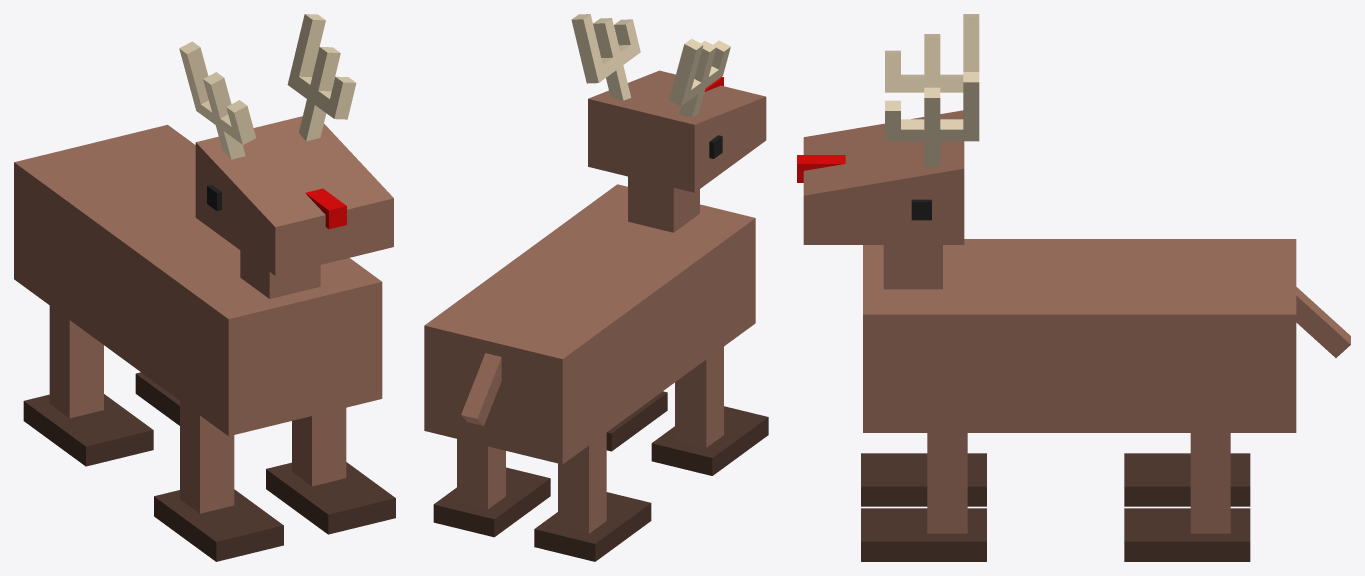
The model's file is 075 Deer.fbx.
3 views of the same model, side by side, from view 1: azimuth 30°, elevation 25°; view 2: azimuth 150°, elevation 25°; view 3: azimuth 270°, elevation 25° (orthographic). The views are drawn at different scales.
Visible parts, largest first — view 1: Lowpoly_Christmas_Pack_075:pCube16; view 2: Lowpoly_Christmas_Pack_075:pCube16; view 3: Lowpoly_Christmas_Pack_075:pCube16.
Boxes of the visible parts, box(x1,y1,x2,y2) form: Lowpoly_Christmas_Pack_075:pCube16: box(14, 14, 395, 561); Lowpoly_Christmas_Pack_075:pCube16: box(424, 14, 768, 561); Lowpoly_Christmas_Pack_075:pCube16: box(797, 14, 1350, 561).
Bounding box in the file's own units: 0.9635 × 2.4 × 2.55.
